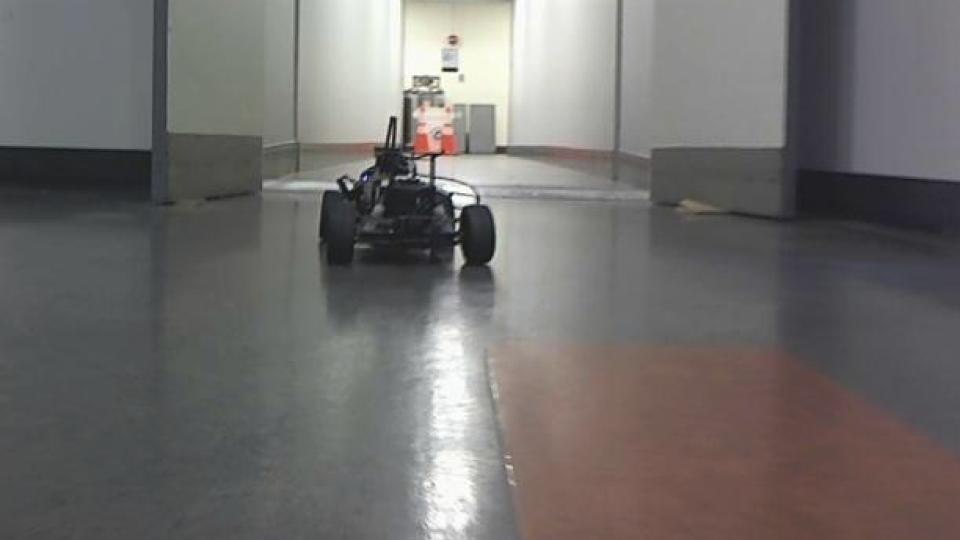car: (317, 114, 500, 272)
